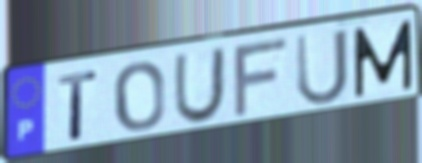F: (231, 34, 291, 122)
M: (351, 17, 415, 101)
O: (111, 59, 167, 135)
T: (56, 68, 100, 142)
U: (293, 25, 351, 109), (172, 44, 229, 126)
